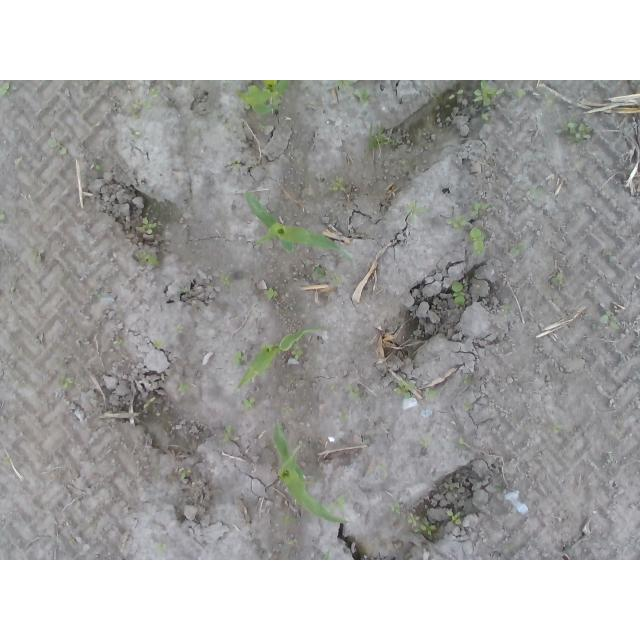Maize: (243, 190, 356, 270), (272, 417, 353, 524), (237, 327, 322, 389)
Weeds: (241, 80, 289, 117), (472, 80, 505, 124), (366, 123, 402, 153), (561, 120, 594, 147), (335, 80, 369, 105), (406, 512, 438, 537), (467, 225, 487, 256), (127, 97, 153, 120), (135, 215, 158, 240), (406, 199, 431, 222), (134, 249, 162, 268), (305, 259, 328, 281), (48, 135, 70, 157), (393, 378, 416, 399), (344, 382, 368, 401), (446, 214, 475, 229), (324, 495, 347, 513), (470, 202, 495, 218), (599, 310, 618, 330), (544, 91, 560, 114), (451, 280, 465, 306), (258, 287, 282, 301), (447, 86, 466, 103), (329, 176, 347, 193), (512, 239, 529, 257), (447, 510, 464, 528), (223, 426, 241, 443), (447, 478, 466, 494), (231, 350, 246, 369), (0, 80, 16, 97), (424, 387, 441, 402), (217, 273, 235, 287), (419, 434, 434, 450), (243, 394, 258, 410), (527, 186, 544, 200), (55, 378, 73, 391), (147, 83, 161, 98), (176, 465, 189, 481), (280, 513, 297, 525), (551, 271, 561, 290), (153, 338, 168, 350), (292, 346, 304, 361), (548, 422, 564, 433), (339, 408, 350, 424), (387, 500, 400, 513), (177, 382, 191, 394), (514, 88, 527, 100), (241, 104, 257, 113), (130, 128, 143, 139), (155, 543, 169, 553), (176, 288, 193, 296), (0, 208, 8, 225), (334, 273, 343, 288), (228, 159, 241, 169), (323, 548, 333, 561), (175, 322, 185, 334), (463, 399, 473, 411), (463, 373, 473, 385), (94, 163, 106, 173), (456, 436, 465, 449), (94, 289, 103, 301), (287, 536, 298, 545), (495, 483, 504, 493), (4, 456, 13, 465), (499, 304, 506, 313), (233, 88, 240, 97), (315, 478, 322, 486), (206, 283, 214, 289), (208, 272, 213, 277)
